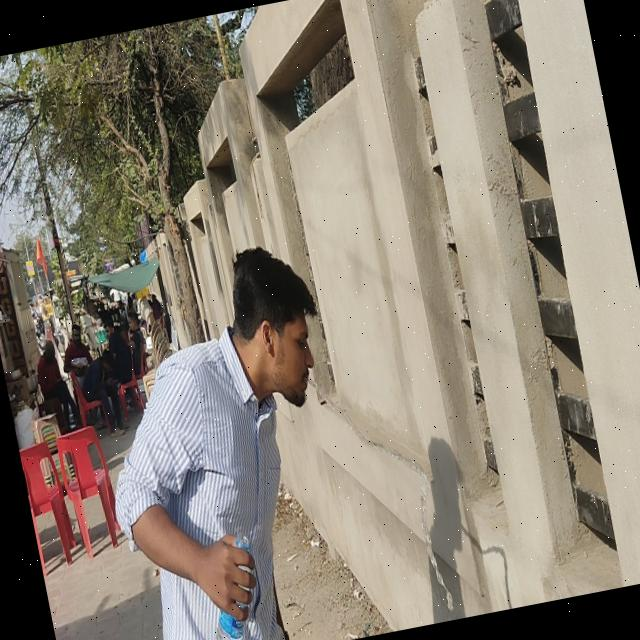spit: (224, 251, 460, 619)
